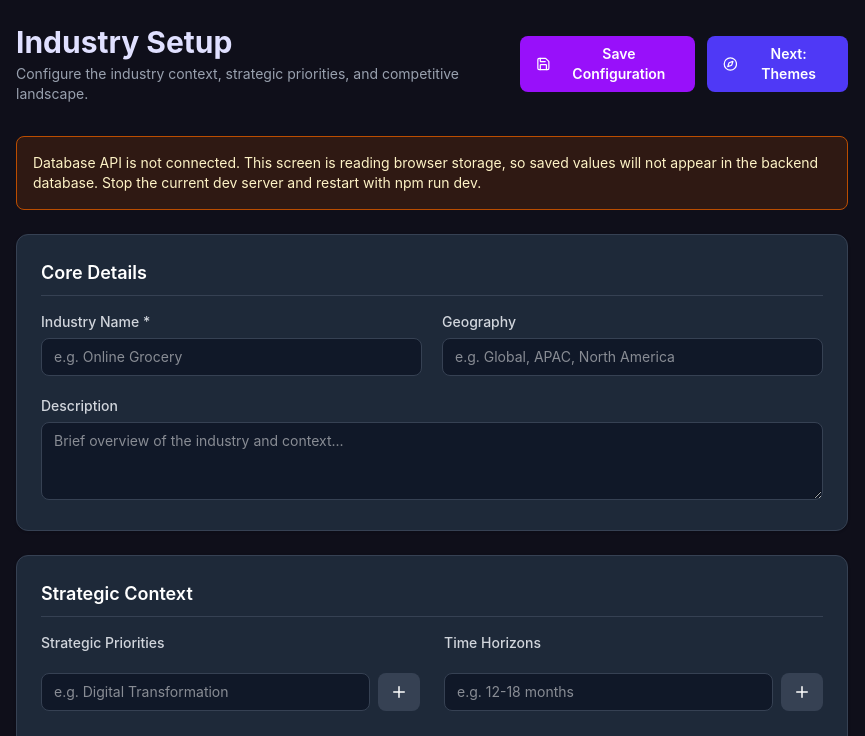
IndustrySetup component › shows validation error when industry name is empty
Clear the field named "industry-name" at (232, 357), box 41,338 -> 422,376
(page scrolled)
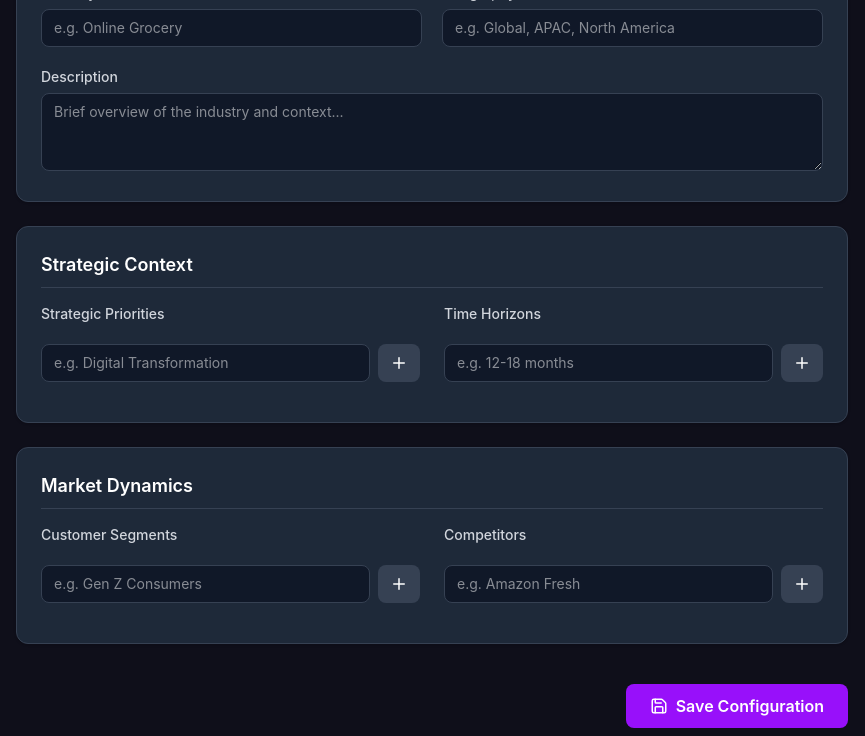
Click the button with aria-label "save-button" at (737, 706), box 626,684 -> 848,728
(page scrolled)
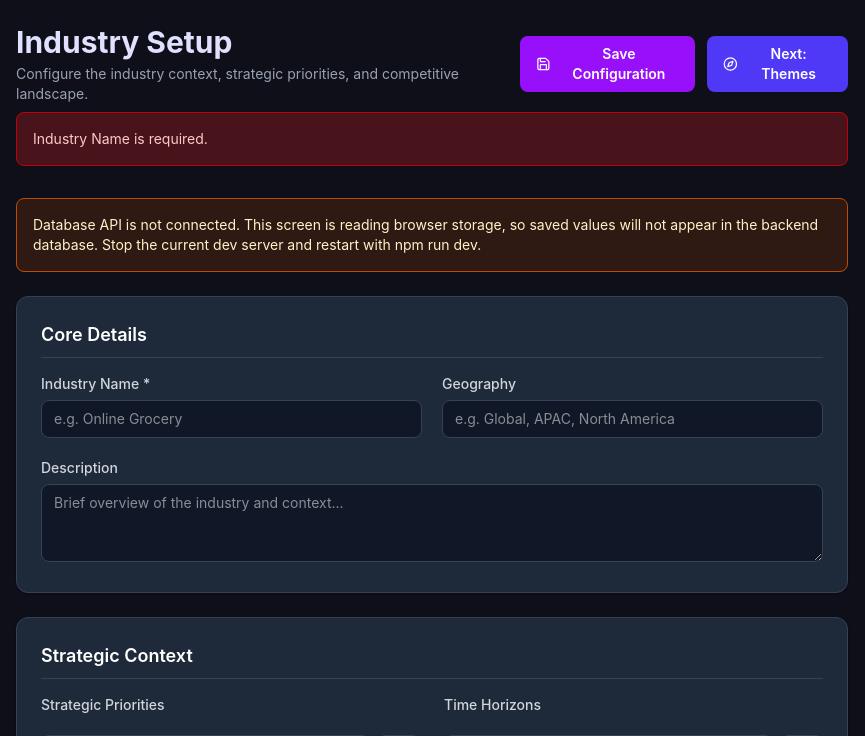
Check: the message shows "Industry Name is required", box 33,130 -> 208,147
